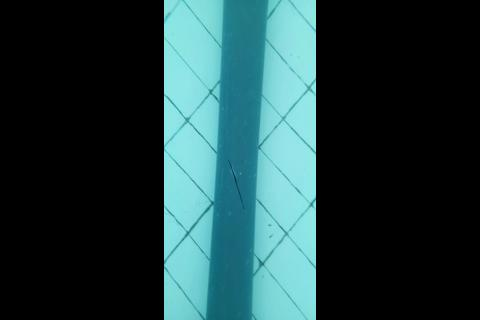keretakan: (227, 159, 245, 210)
